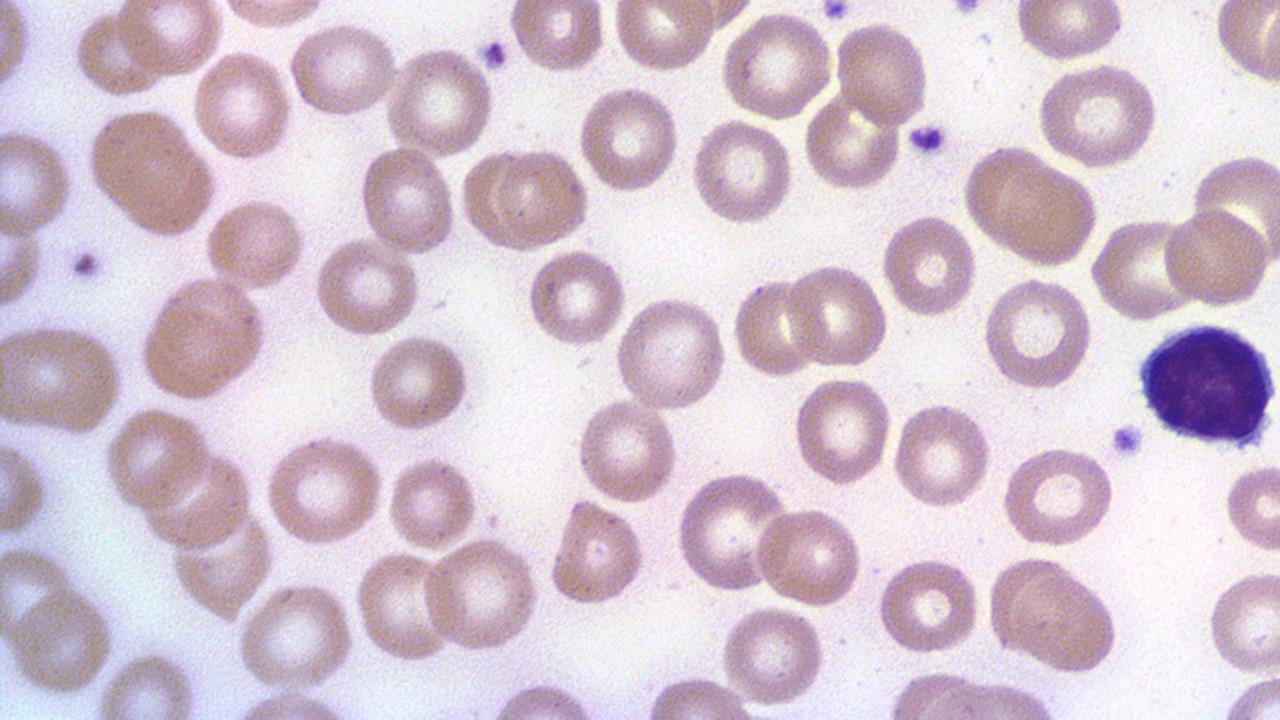Platelets: (904, 120, 952, 159), (1109, 418, 1147, 460), (480, 35, 510, 74), (819, 1, 853, 24), (946, 0, 986, 19), (975, 29, 993, 46)
RBC: (82, 105, 218, 239), (136, 275, 272, 403), (672, 470, 788, 594), (424, 535, 542, 655), (264, 432, 386, 548), (612, 293, 730, 412), (0, 322, 126, 433), (980, 273, 1096, 392), (1035, 61, 1161, 169), (718, 8, 834, 123), (984, 156, 1102, 268), (236, 580, 356, 690), (386, 44, 498, 157), (1000, 442, 1117, 550), (1010, 567, 1122, 678), (5, 588, 115, 700), (574, 83, 684, 195), (1161, 203, 1275, 311), (189, 48, 295, 163), (352, 549, 456, 666), (790, 373, 894, 490), (782, 258, 890, 370), (688, 116, 796, 227), (717, 602, 830, 708), (889, 398, 994, 512), (574, 395, 680, 507), (103, 406, 211, 514), (356, 144, 459, 257), (1087, 215, 1197, 320), (546, 498, 650, 608), (754, 505, 865, 608), (311, 236, 423, 338), (286, 21, 399, 121), (365, 330, 473, 434), (830, 19, 932, 129), (875, 554, 982, 656), (880, 210, 979, 319), (526, 247, 628, 349), (492, 145, 592, 248), (202, 196, 309, 292), (383, 453, 480, 551), (730, 272, 816, 378), (806, 94, 902, 188), (1, 126, 78, 236), (1205, 564, 1279, 678), (115, 3, 226, 77), (610, 2, 716, 74), (505, 1, 606, 75), (92, 652, 202, 718), (1011, 1, 1125, 62), (1212, 0, 1280, 90), (0, 200, 47, 316), (1222, 460, 1280, 554), (0, 438, 50, 539), (487, 680, 602, 720), (215, 0, 332, 32), (0, 0, 35, 103), (1249, 2, 1280, 88)
WBC: (1133, 318, 1279, 448)
